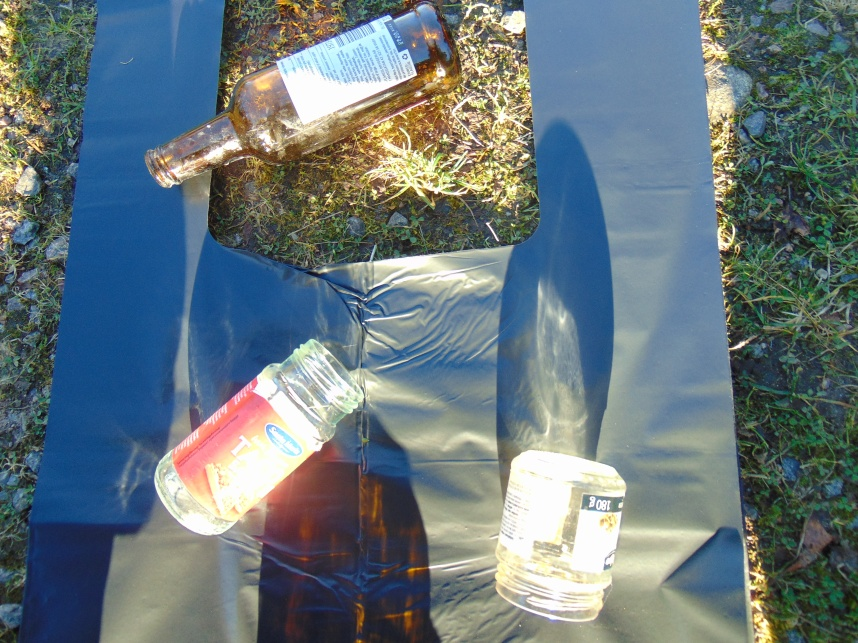glass_bottle: (142, 1, 461, 191), (152, 339, 365, 539), (492, 449, 627, 628)
